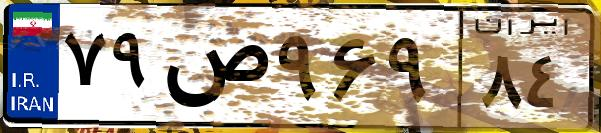4: (525, 38, 570, 115)
6: (330, 28, 385, 110)
7: (57, 26, 110, 100)
8: (475, 38, 525, 113)
9: (270, 28, 330, 110), (385, 28, 445, 110), (110, 28, 158, 98)
ص: (158, 20, 270, 120)
